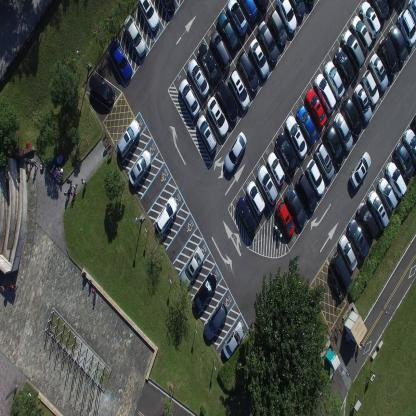car: (179, 245, 205, 290), (284, 114, 308, 160), (192, 271, 217, 314), (203, 300, 228, 341), (197, 41, 220, 85), (123, 14, 146, 58), (341, 30, 365, 72), (116, 118, 140, 159), (285, 184, 307, 228), (216, 78, 238, 122), (257, 20, 279, 64), (275, 132, 298, 174), (216, 11, 239, 53), (209, 28, 232, 70), (109, 40, 132, 82), (305, 87, 327, 130), (224, 131, 247, 172), (313, 73, 336, 114), (155, 195, 178, 236), (206, 95, 229, 136), (128, 148, 152, 187), (324, 123, 346, 165), (347, 218, 369, 260), (330, 251, 352, 293), (228, 69, 250, 111), (349, 14, 372, 54), (349, 150, 372, 190), (368, 189, 390, 230), (237, 51, 259, 92), (178, 77, 200, 118), (88, 73, 115, 106), (235, 196, 256, 238), (341, 95, 362, 137), (248, 37, 269, 79), (257, 165, 279, 205), (296, 105, 318, 145), (358, 0, 380, 40), (187, 58, 209, 98), (332, 112, 353, 153), (324, 60, 345, 101), (196, 114, 217, 155), (385, 160, 407, 199), (357, 202, 379, 241), (222, 321, 244, 360), (296, 171, 317, 211), (388, 23, 408, 64), (378, 35, 398, 76), (368, 52, 388, 92), (267, 7, 287, 47), (314, 142, 335, 180), (226, 0, 247, 38), (137, 0, 161, 33), (396, 9, 416, 48), (394, 141, 414, 180), (305, 158, 325, 196), (353, 83, 372, 123), (338, 234, 358, 272), (246, 179, 266, 216), (266, 151, 286, 188), (334, 47, 354, 84), (276, 198, 294, 238), (378, 176, 398, 212), (361, 70, 380, 106), (276, 0, 296, 34), (402, 127, 416, 167), (369, 0, 390, 22), (238, 0, 258, 23), (289, 0, 306, 20), (160, 0, 176, 15), (406, 0, 416, 23), (252, 0, 269, 11), (386, 0, 398, 8), (412, 111, 416, 135), (303, 0, 315, 8)
